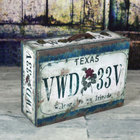shoutibox: (20, 30, 130, 127)
